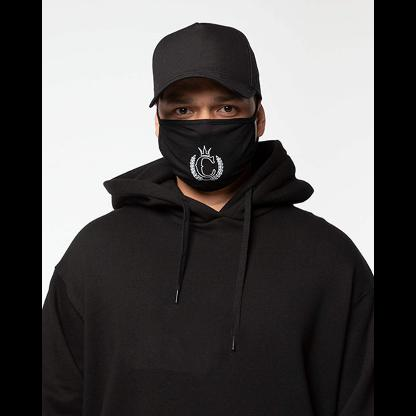Fabric/Cloth Mask: (143, 34, 263, 200)
